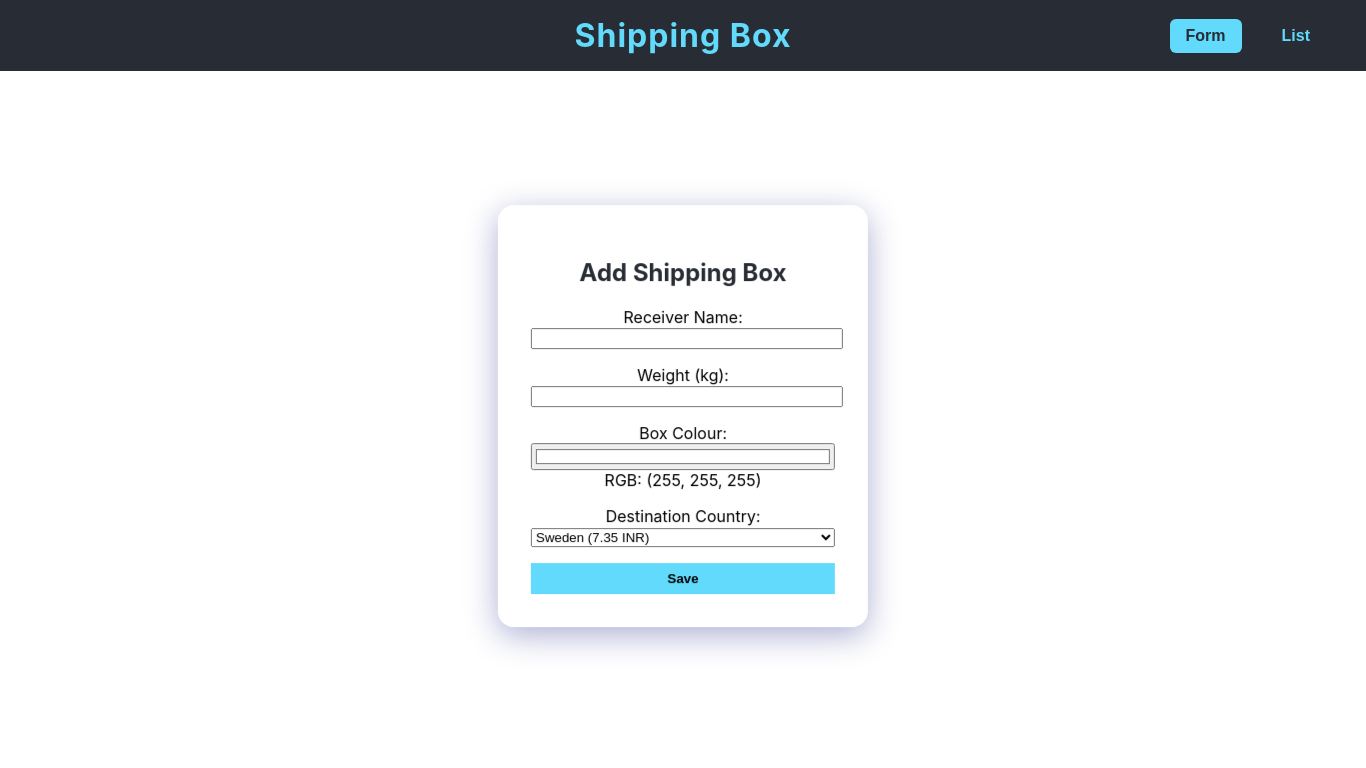
Test: Shipping Box App › switches to List tab and shows table
The width and height of the screenshot is (1366, 768).
Click the button "List".
click(1296, 36)  # box [1266,18,1326,52]
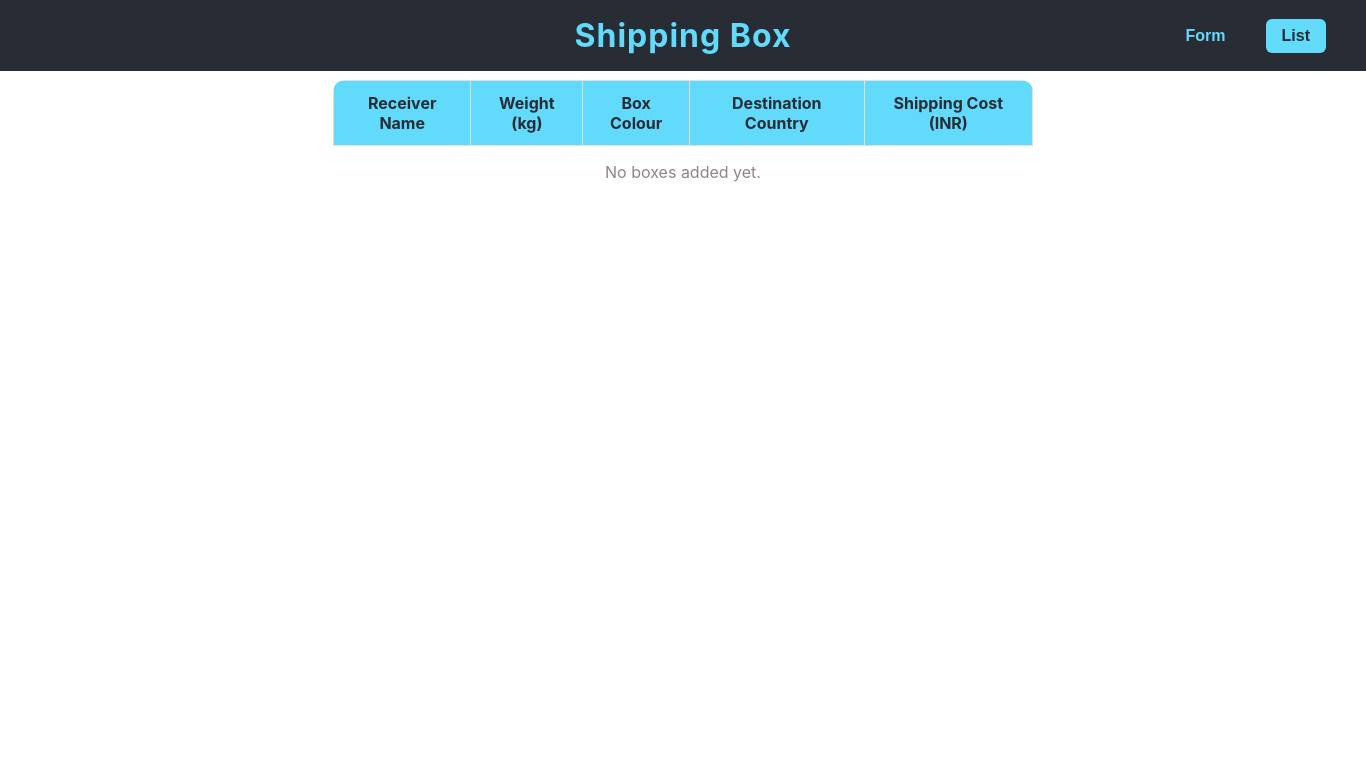
Now the text "No boxes added yet." is shown, box [334,146,1032,198]
